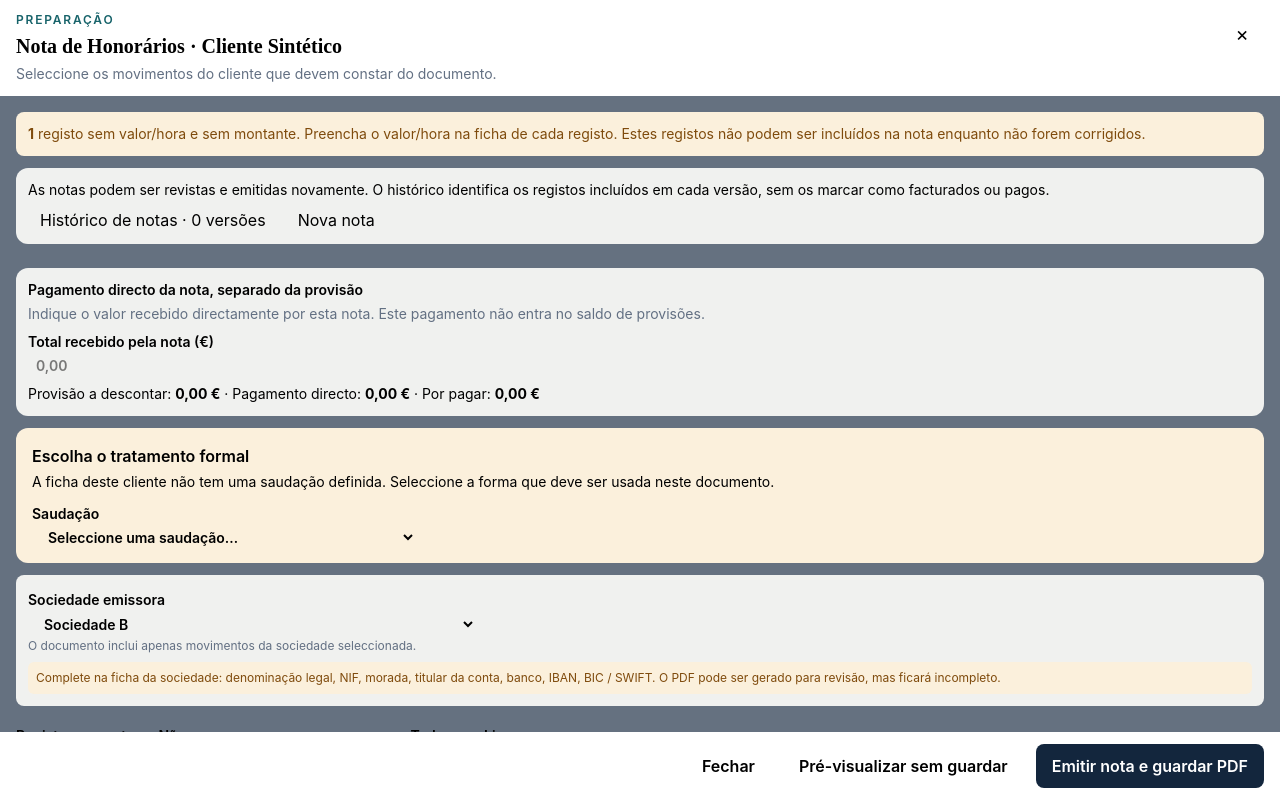
HonorariumNoteModal › aguarda a emissora predefinida sem fixar a primeira sociedade que carrega
The width and height of the screenshot is (1280, 800).
Expected: the text "Movimento A" is not shown
Select "Sociedade A" in the dropdown named "Sociedade emissora do documento" at (252, 624), box [28, 615, 476, 634]
(page scrolled)
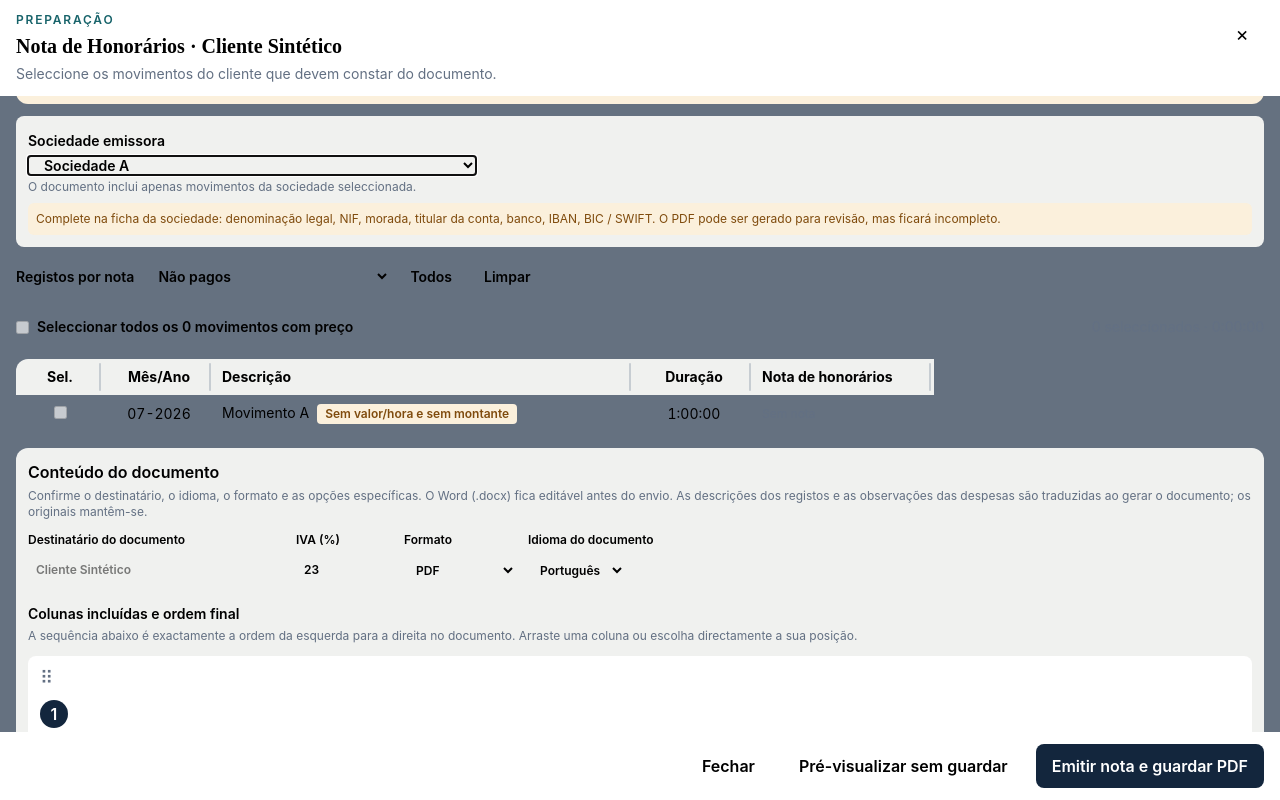
Now the text "Movimento A" is shown, box [222, 404, 309, 421]
